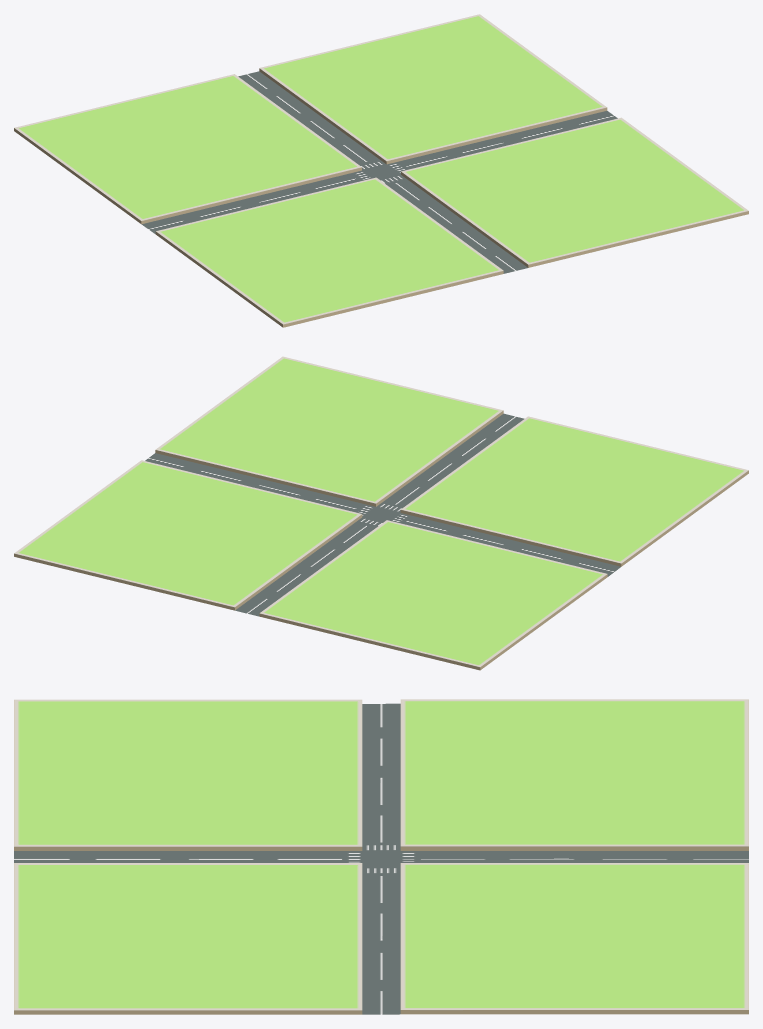
Rendered from Scene_base_land.FBX.
3 views of the same model, one above another, from view 1: azimuth 30°, elevation 25°; view 2: azimuth 150°, elevation 25°; view 3: azimuth 270°, elevation 25° (orthographic). The views are drawn at different scales.
Visible parts, largest first — view 1: land; view 2: land; view 3: land.
Boxes of the visible parts, left/top/right/bottom form: land: left=14, top=14, right=748, bottom=327; land: left=14, top=356, right=748, bottom=670; land: left=14, top=699, right=748, bottom=1014.
Bounding box in the file's own units: 1497 × 10 × 1495.
1 material, 1 textured.
